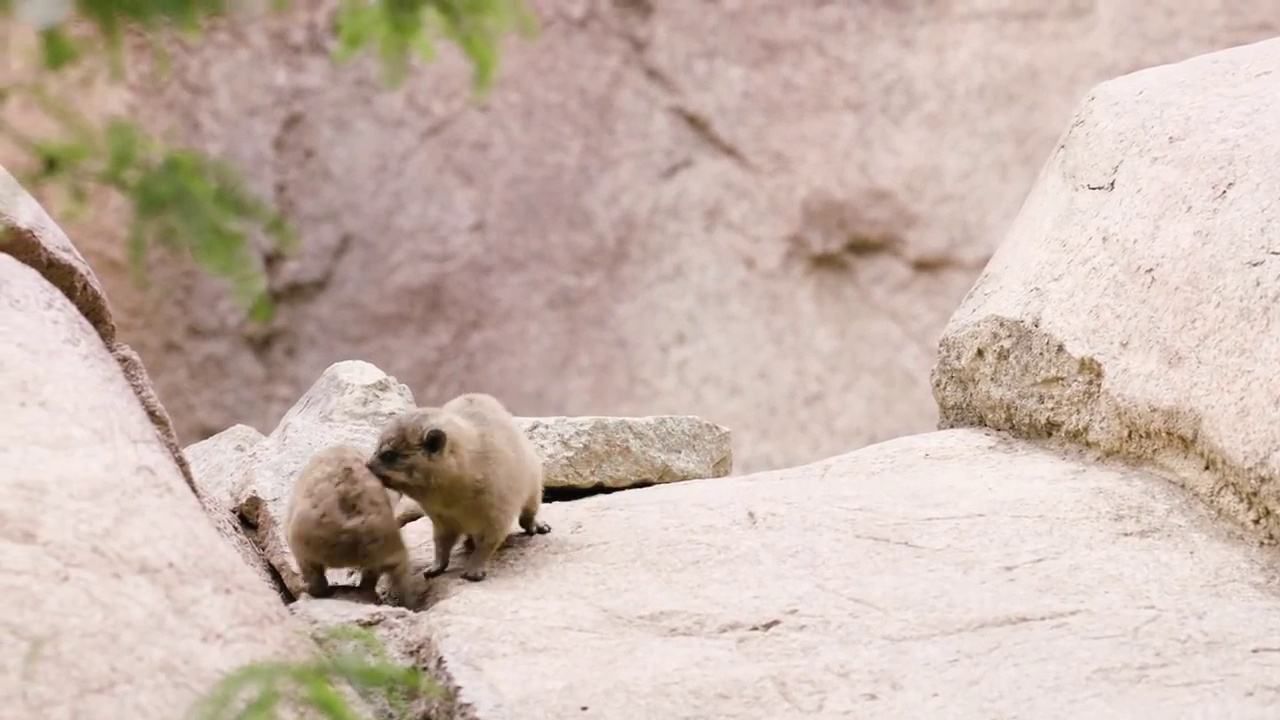Rock Hyrex: (363, 389, 555, 586), (290, 442, 413, 615)
